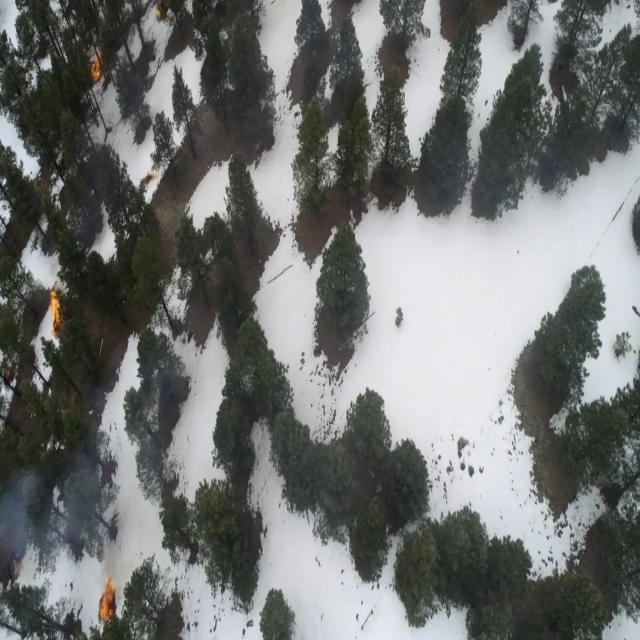Fire: (46, 286, 65, 339), (97, 576, 118, 623), (89, 47, 105, 84)
